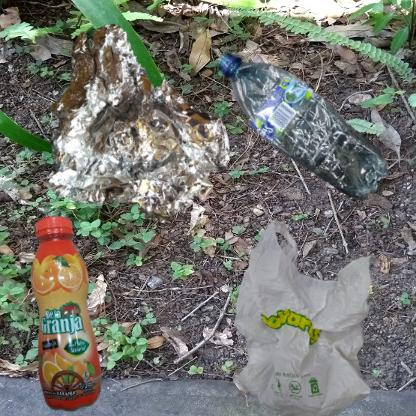aluminio: (10, 10, 284, 278)
bolsa: (213, 213, 416, 416)
botella: (213, 10, 416, 290), (10, 213, 132, 416)
